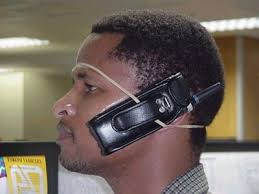phone: (87, 73, 194, 158)
